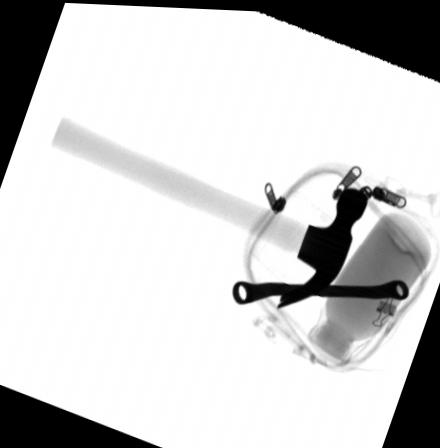Hammer: (50, 118, 368, 308)
Wrench: (230, 276, 411, 302)
